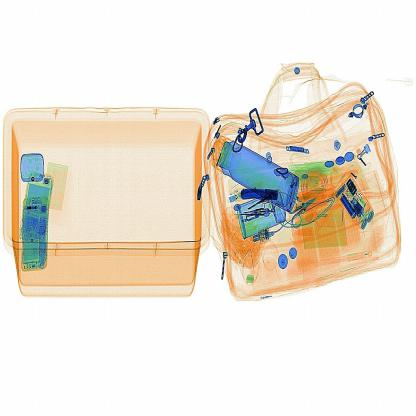knife: (239, 179, 283, 212)
